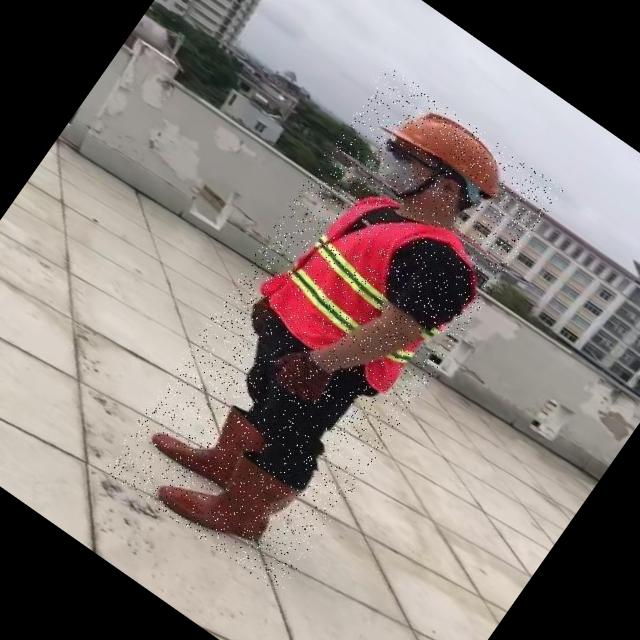hard_hat: (380, 87, 525, 211)
safety_vest: (251, 171, 488, 408)
vehicle: (102, 65, 564, 594)
work_boots: (151, 422, 299, 564), (148, 378, 274, 501)
